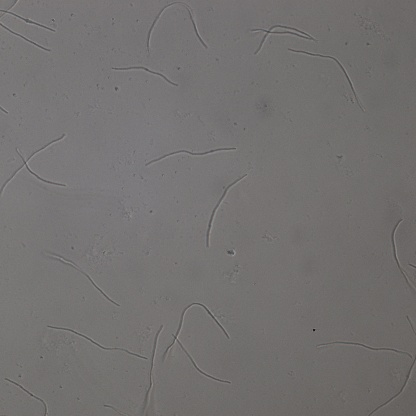Sensitive: (166, 301, 232, 385), (289, 47, 366, 111), (1, 133, 65, 198), (46, 252, 119, 306), (47, 324, 146, 359), (145, 1, 208, 51), (206, 174, 246, 246), (250, 18, 316, 56), (372, 363, 416, 415), (315, 339, 413, 360), (389, 219, 416, 291), (142, 325, 163, 412), (145, 147, 235, 167), (6, 379, 50, 416), (108, 66, 177, 85), (1, 25, 49, 52), (1, 10, 54, 31)
